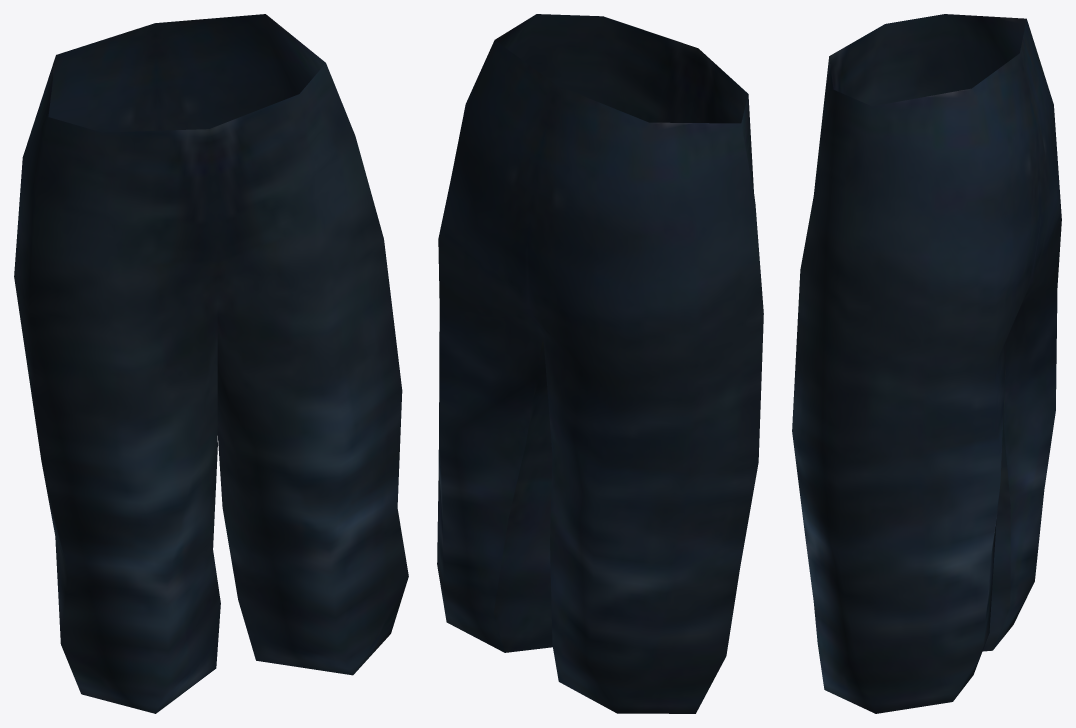
Rendered from pantsdw.gltf.
3 renders of one model, left to right at view 1: azimuth 30°, elevation 25°; view 2: azimuth 150°, elevation 25°; view 3: azimuth 270°, elevation 25°, orthographic. The views are drawn at different scales.
Visible parts, largest first — view 1: PantClass01; view 2: PantClass01; view 3: PantClass01.
Boxes of the visible parts, x1,y1,x2,y2 form: PantClass01: (14,14,408,713); PantClass01: (437,14,763,713); PantClass01: (792,14,1061,713).
Size of the model in its own units: 38.69 by 69.11 by 27.53.
Materials: 1 (1 with a texture image).
